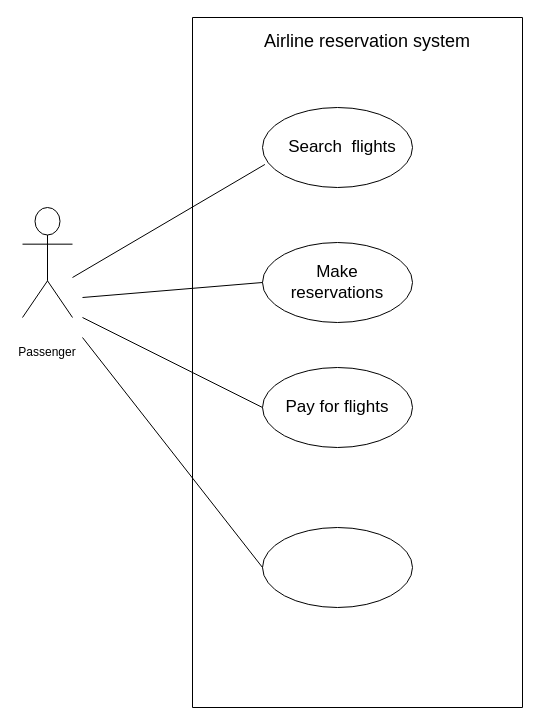
Some shapes in this 540 by 725 pixel diagram are drawn without their labels. Here are the shapes that lost their labels. From the top down, the box of each, then its label:
(22, 206, 72, 318): Actor
(262, 526, 412, 608): Select seats
